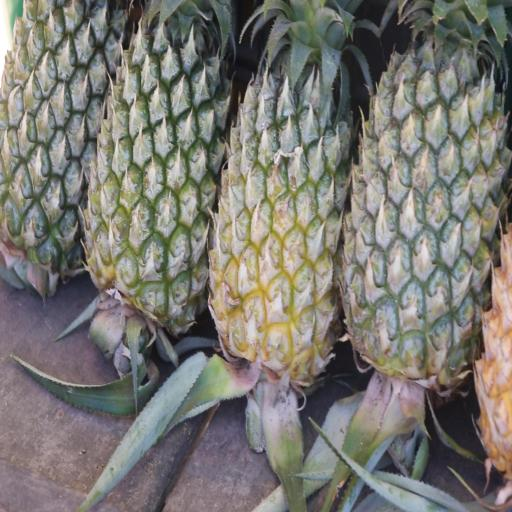------------------------------: (205, 0, 353, 402)
